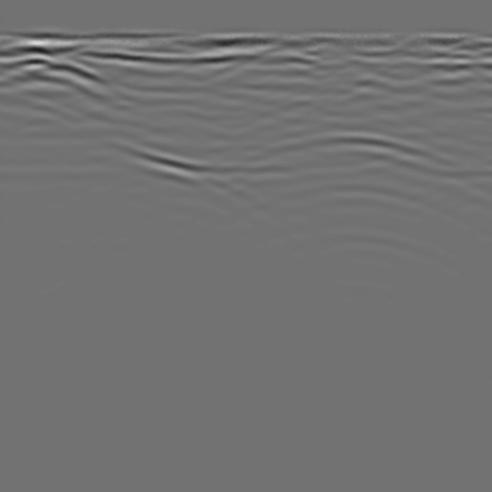hyperbola: (226, 121, 475, 233)
